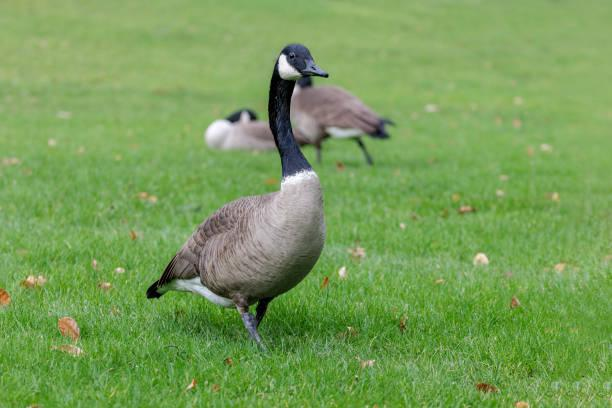Canadian-Goose: (151, 43, 338, 345), (291, 75, 390, 161), (203, 100, 271, 149)
